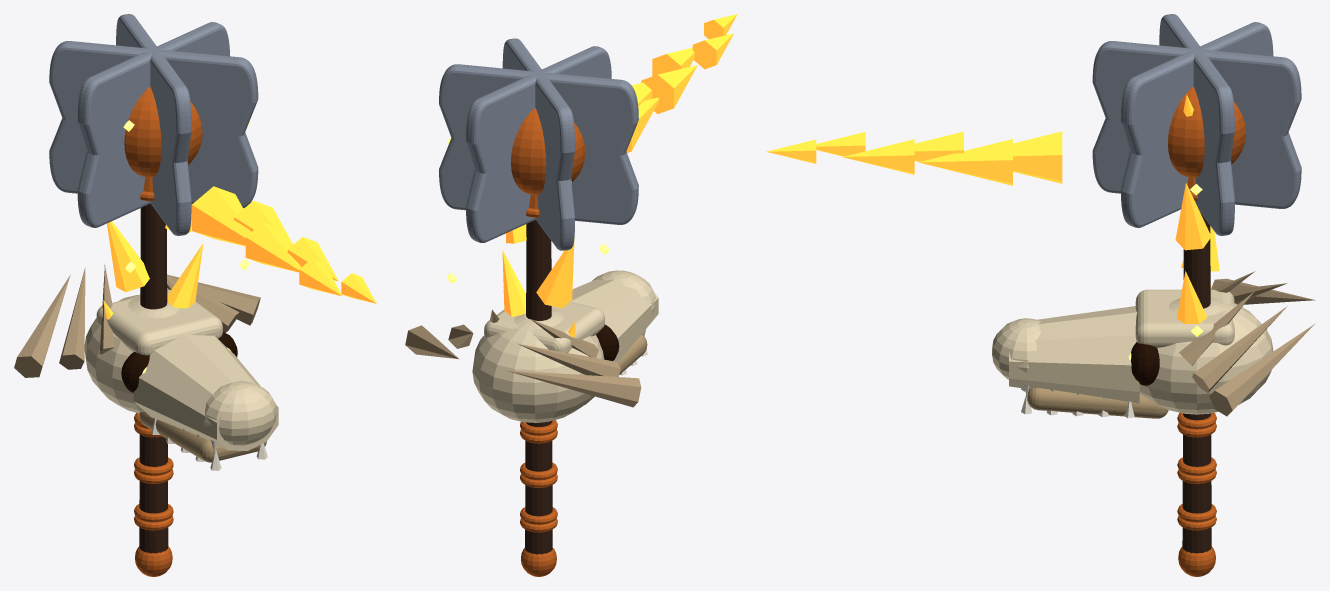
The model's file is drgmace.glb.
3 views of the same model, side by side, from view 1: azimuth 30°, elevation 25°; view 2: azimuth 150°, elevation 25°; view 3: azimuth 270°, elevation 25° (orthographic). The views are drawn at different scales.
Visible parts, largest first — view 1: spikes, bone, flame, horn, grip, head, wrap, boneDark, pommel, socket, teeth; view 2: spikes, bone, flame, horn, grip, head, wrap, pommel, socket, boneDark; view 3: spikes, bone, flame, horn, grip, head, boneDark, wrap, socket, pommel.
Boxes of the visible parts, bbox=[...] form: spikes: bbox=[49, 14, 258, 235]; bone: bbox=[84, 289, 278, 450]; flame: bbox=[103, 186, 376, 319]; horn: bbox=[14, 265, 260, 377]; grip: bbox=[139, 203, 168, 553]; head: bbox=[124, 86, 202, 177]; wrap: bbox=[134, 413, 173, 530]; boneDark: bbox=[139, 411, 266, 462]; pommel: bbox=[135, 177, 172, 576]; socket: bbox=[121, 332, 237, 392]; teeth: bbox=[151, 418, 267, 470]; spikes: bbox=[439, 38, 638, 250]; bone: bbox=[472, 270, 658, 422]; flame: bbox=[502, 14, 737, 337]; horn: bbox=[405, 309, 641, 407]; grip: bbox=[525, 220, 552, 554]; head: bbox=[511, 107, 585, 194]; wrap: bbox=[520, 420, 557, 532]; pommel: bbox=[521, 194, 556, 576]; socket: bbox=[596, 324, 619, 360]; boneDark: bbox=[584, 334, 647, 404]; spikes: bbox=[1092, 14, 1301, 235]; bone: bbox=[992, 289, 1273, 414]; flame: bbox=[766, 94, 1219, 324]; horn: bbox=[1179, 271, 1315, 416]; grip: bbox=[1182, 212, 1211, 553]; head: bbox=[1168, 86, 1245, 177]; boneDark: bbox=[1027, 388, 1168, 418]; wrap: bbox=[1177, 412, 1216, 530]; socket: bbox=[1131, 342, 1159, 385]; pommel: bbox=[1178, 177, 1215, 576].
Bounding box in the file's own units: 1.92 × 3.95 × 3.75.
